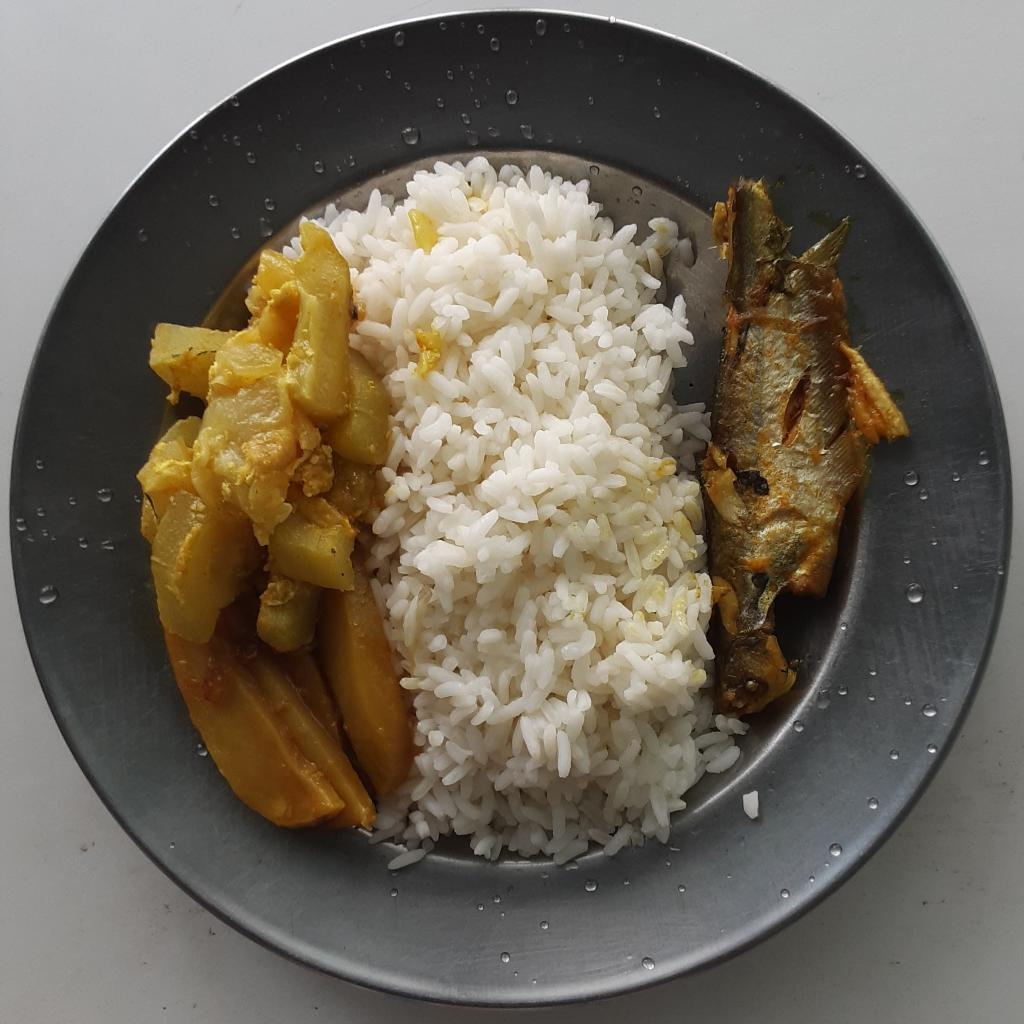fish: (702, 179, 913, 714)
lau: (135, 215, 423, 832)
rice: (278, 160, 752, 871)
